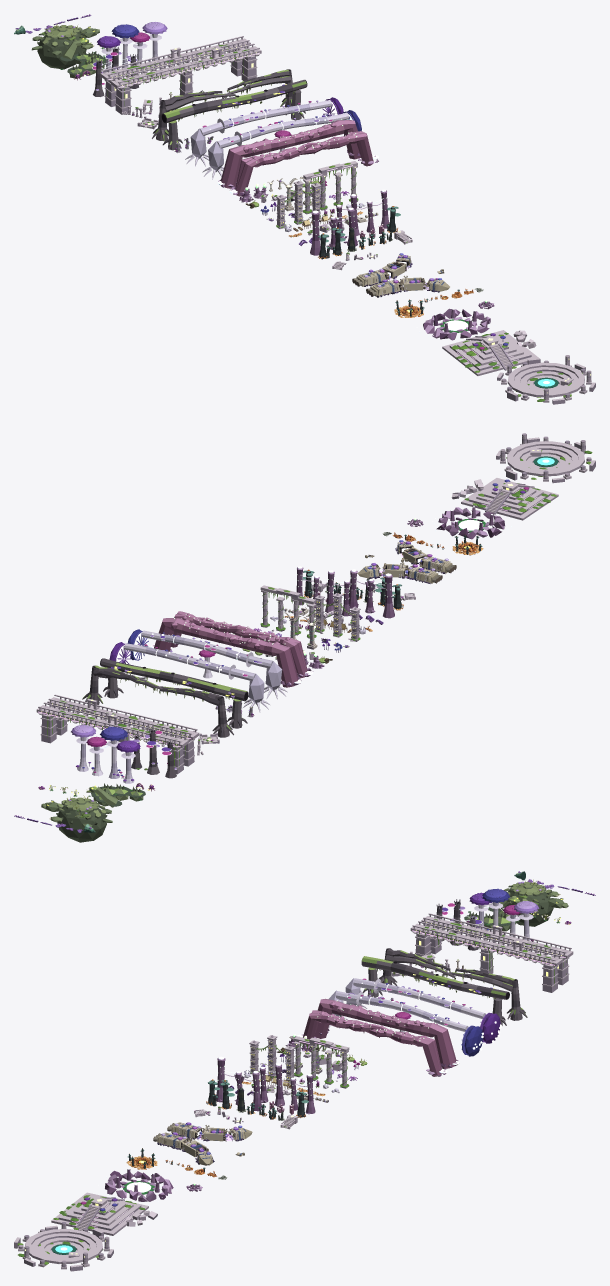
The model's file is set_mirefall.glb.
The picture shows the model from 3 angles, top to bottom: view 1: azimuth 30°, elevation 25°; view 2: azimuth 150°, elevation 25°; view 3: azimuth 330°, elevation 25°; orthographic projection.
Visible parts, largest first — view 1: mirefall_ziggurat_ruin_1.001, mirefall_causeway_1.001, mirefall_ziggurat_ruin_0.001, mirefall_fungal_arch_0.001, mirefall_causeway_0.001, mirefall_fungal_arch_1.001, mirefall_drowned_roots_1.001, mirefall_fallen_stalk_0.001, mirefall_fallen_stalk_1.001, mirefall_drowned_roots_0.001, mirefall_bog_beast_0.001, mirefall_cap_gate_0.001 (+7 smaller); view 2: mirefall_ziggurat_ruin_1.001, mirefall_ziggurat_ruin_0.001, mirefall_fungal_arch_0.001, mirefall_causeway_0.001, mirefall_causeway_1.001, mirefall_fallen_stalk_1.001, mirefall_drowned_roots_1.001, mirefall_cap_gate_0.001, mirefall_bog_beast_0.001, mirefall_fallen_stalk_0.001, mirefall_drowned_roots_0.001, mirefall_fungal_arch_1.001 (+7 smaller); view 3: mirefall_ziggurat_ruin_1.001, mirefall_causeway_1.001, mirefall_ziggurat_ruin_0.001, mirefall_fungal_arch_0.001, mirefall_causeway_0.001, mirefall_fungal_arch_1.001, mirefall_drowned_roots_1.001, mirefall_drowned_roots_0.001, mirefall_fallen_stalk_1.001, mirefall_fallen_stalk_0.001, mirefall_cap_gate_0.001, mirefall_vent_crater_0.001 (+7 smaller).
Part boxes in pixels (<box>): mirefall_ziggurat_ruin_1.001: <box>497,355,595,404</box>; mirefall_causeway_1.001: <box>111,43,261,114</box>; mirefall_ziggurat_ruin_0.001: <box>442,330,538,375</box>; mirefall_fungal_arch_0.001: <box>217,119,360,188</box>; mirefall_causeway_0.001: <box>100,36,250,106</box>; mirefall_fungal_arch_1.001: <box>229,131,378,196</box>; mirefall_drowned_roots_1.001: <box>161,79,307,150</box>; mirefall_fallen_stalk_0.001: <box>185,97,343,166</box>; mirefall_fallen_stalk_1.001: <box>202,110,362,179</box>; mirefall_drowned_roots_0.001: <box>152,69,292,141</box>; mirefall_bog_beast_0.001: <box>31,23,99,69</box>; mirefall_cap_gate_0.001: <box>97,22,167,72</box>; mirefall_ziggurat_ruin_1.001: <box>496,433,595,483</box>; mirefall_ziggurat_ruin_0.001: <box>451,478,558,520</box>; mirefall_fungal_arch_0.001: <box>150,618,301,687</box>; mirefall_causeway_0.001: <box>36,702,188,774</box>; mirefall_causeway_1.001: <box>47,694,199,766</box>; mirefall_fallen_stalk_1.001: <box>126,629,287,699</box>; mirefall_drowned_roots_1.001: <box>100,658,248,728</box>; mirefall_cap_gate_0.001: <box>71,724,140,783</box>; mirefall_bog_beast_0.001: <box>41,795,112,842</box>; mirefall_fallen_stalk_0.001: <box>108,642,269,712</box>; mirefall_drowned_roots_0.001: <box>82,665,233,737</box>; mirefall_fungal_arch_1.001: <box>171,611,313,678</box>; mirefall_ziggurat_ruin_1.001: <box>14,1222,113,1271</box>; mirefall_causeway_1.001: <box>410,921,562,992</box>; mirefall_ziggurat_ruin_0.001: <box>51,1192,157,1235</box>; mirefall_fungal_arch_0.001: <box>314,998,459,1068</box>; mirefall_causeway_0.001: <box>421,913,573,985</box>; mirefall_fungal_arch_1.001: <box>297,1010,447,1076</box>; mirefall_drowned_roots_1.001: <box>361,956,509,1025</box>; mirefall_drowned_roots_0.001: <box>379,948,527,1020</box>; mirefall_fallen_stalk_1.001: <box>328,990,483,1056</box>; mirefall_fallen_stalk_0.001: <box>345,978,502,1043</box>; mirefall_cap_gate_0.001: <box>469,888,539,941</box>; mirefall_vent_crater_0.001: <box>98,1168,177,1201</box>.
Bounding box in the file's own units: 101 × 44.56 × 582.
